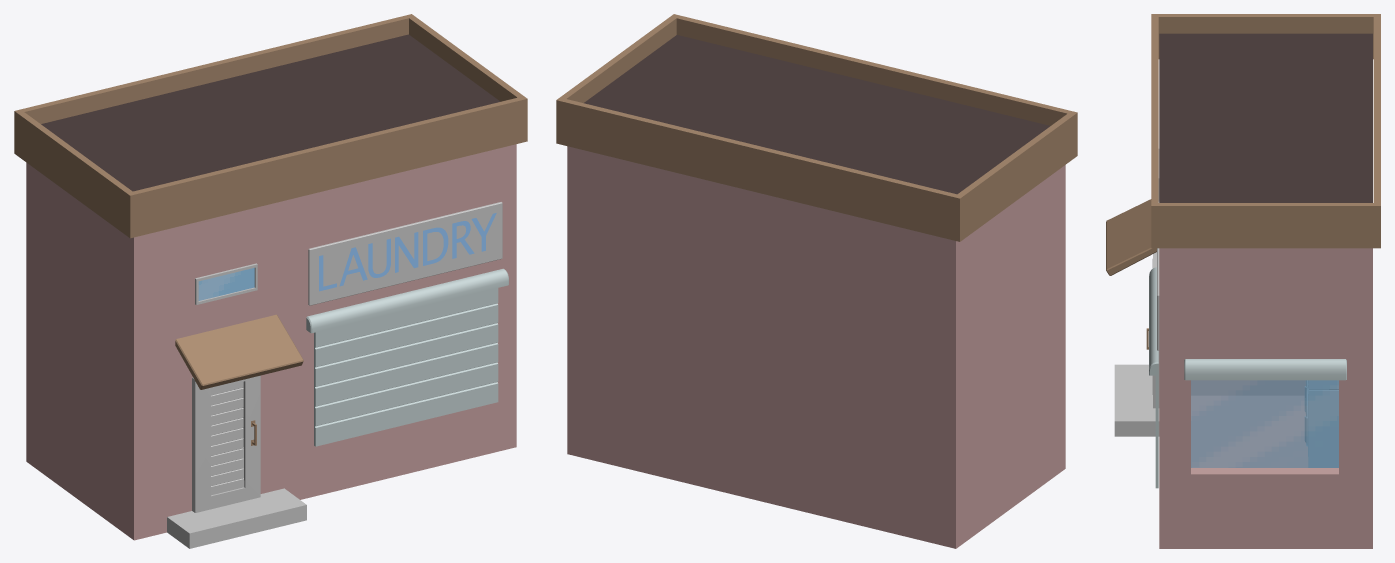
File: laundry.fbx
3 renders of one model, left to right at view 1: azimuth 30°, elevation 25°; view 2: azimuth 150°, elevation 25°; view 3: azimuth 270°, elevation 25°, orthographic. The views are drawn at different scales.
Visible parts, largest first — view 1: body; view 2: body; view 3: body, glass.
Boxes of the visible parts, x1,y1,x2,y2 form: body: (14, 14, 527, 548); body: (556, 14, 1077, 548); body: (1106, 14, 1380, 548); glass: (1191, 380, 1338, 467).
Bounding box in the file's own units: 1270 × 1063 × 764.
